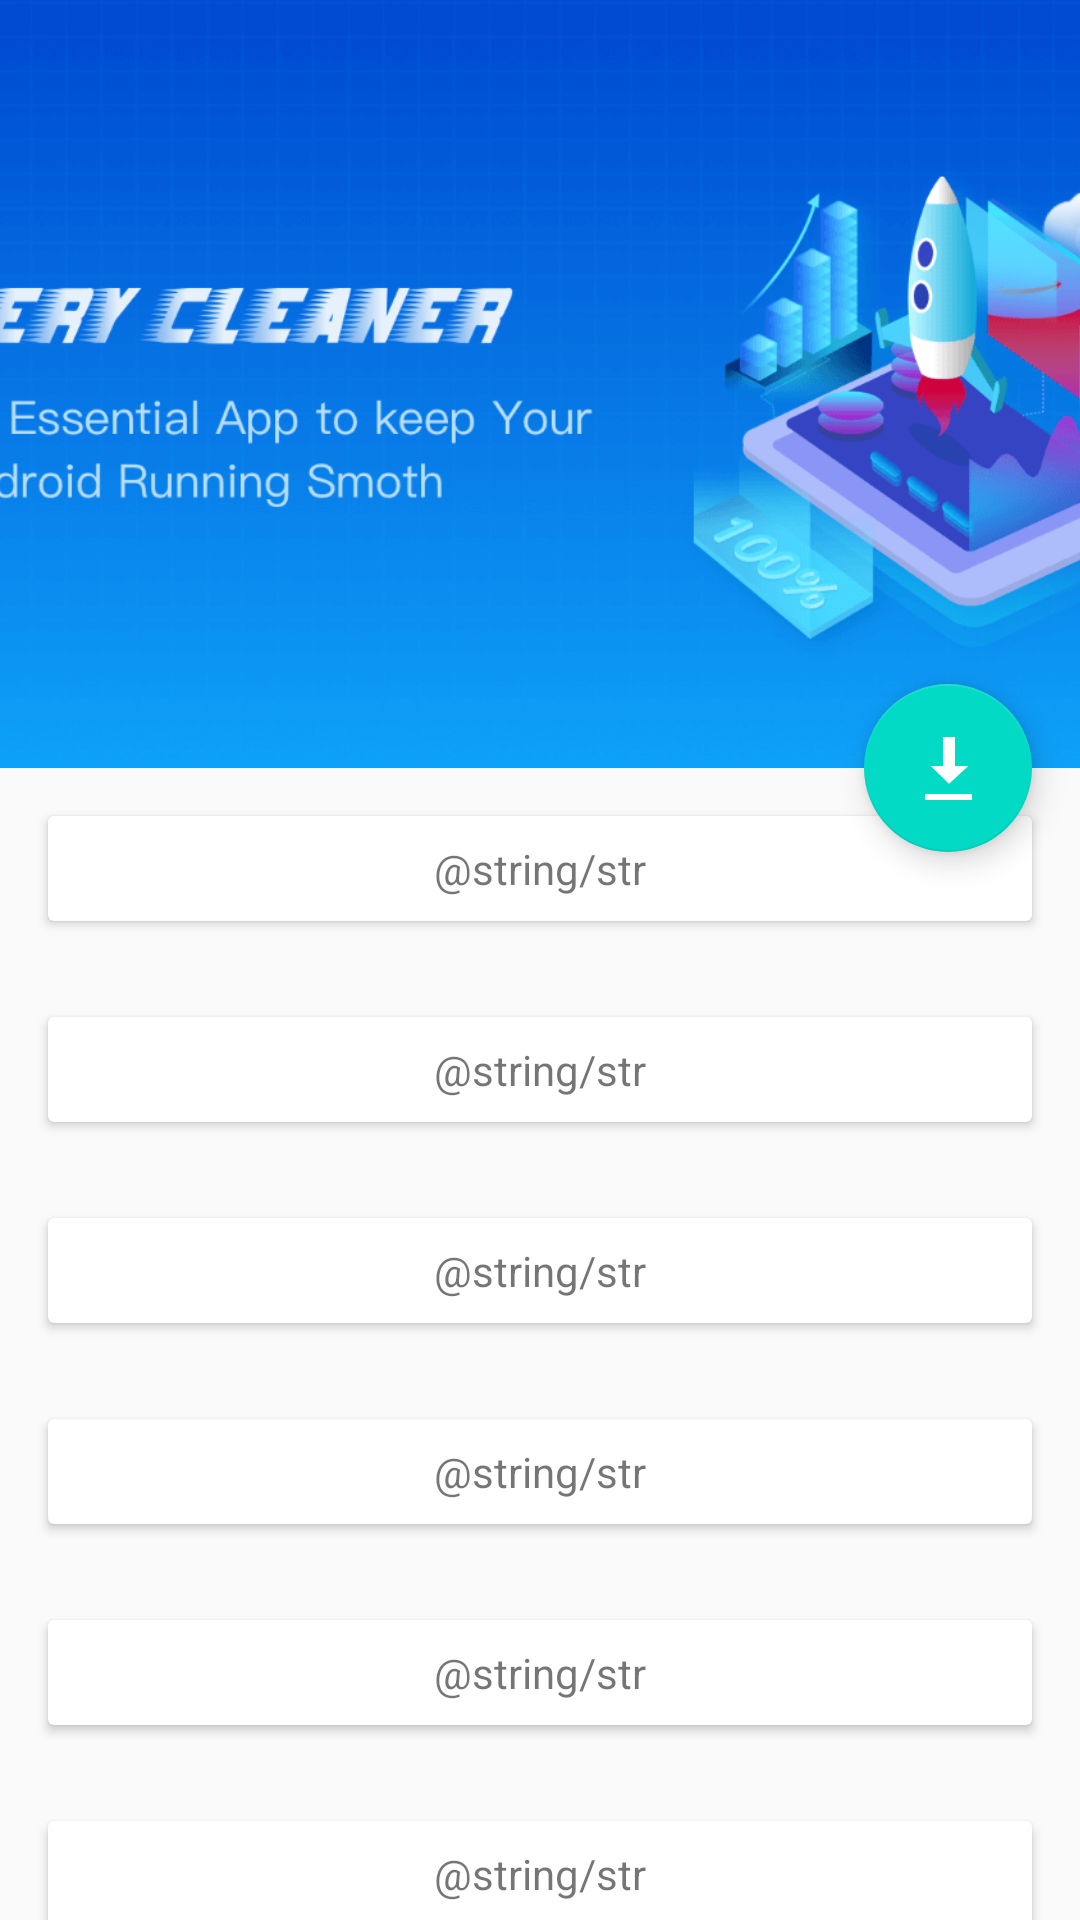

Icons on this 1080px x 1920px Android screen, each with the point to tap as point (x, y):
download done: point (948, 768)
